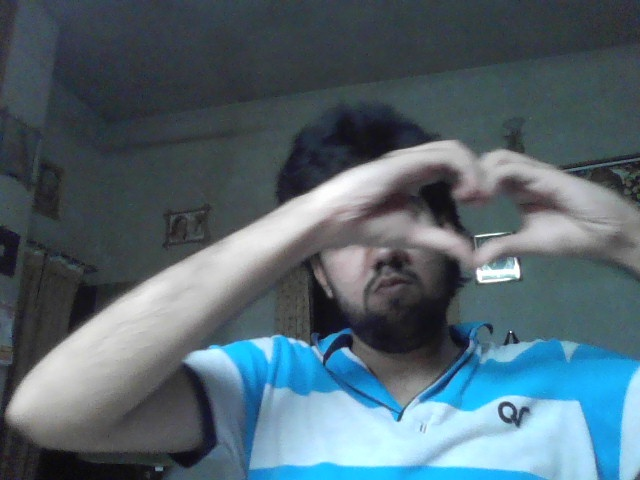Love: (338, 139, 617, 272)
